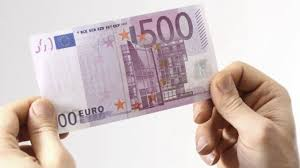billete: (28, 4, 219, 134)
